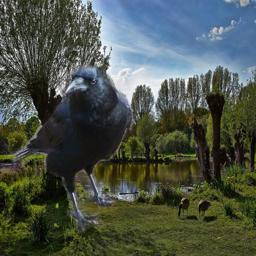Crow: (2, 57, 133, 235)
